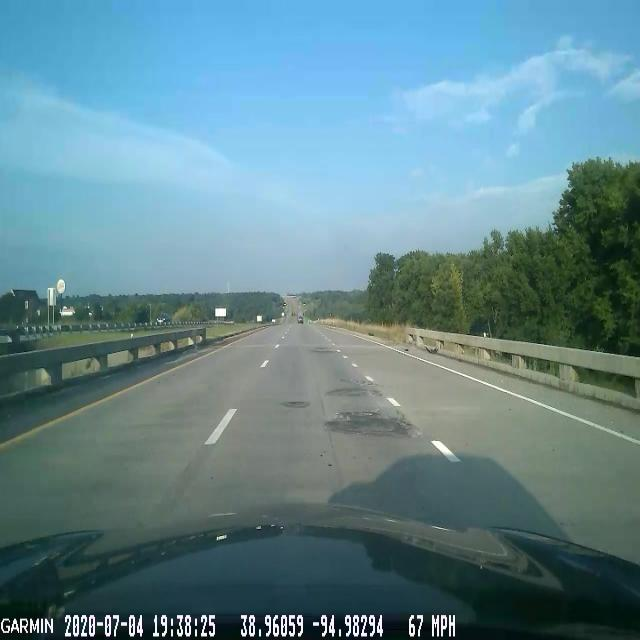Pothole: (318, 403, 419, 449), (321, 381, 382, 409), (279, 390, 311, 418)
